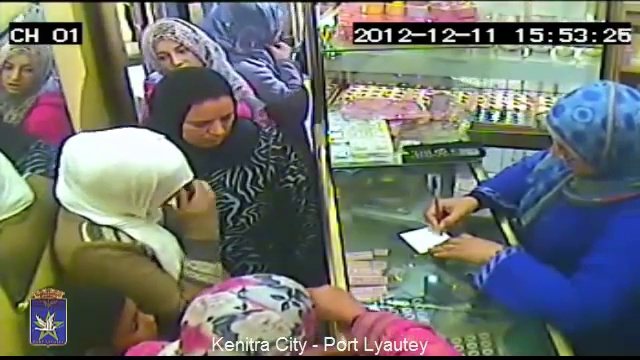face: (186, 106, 234, 152), (116, 300, 162, 344), (154, 40, 212, 69), (1, 55, 34, 95)
